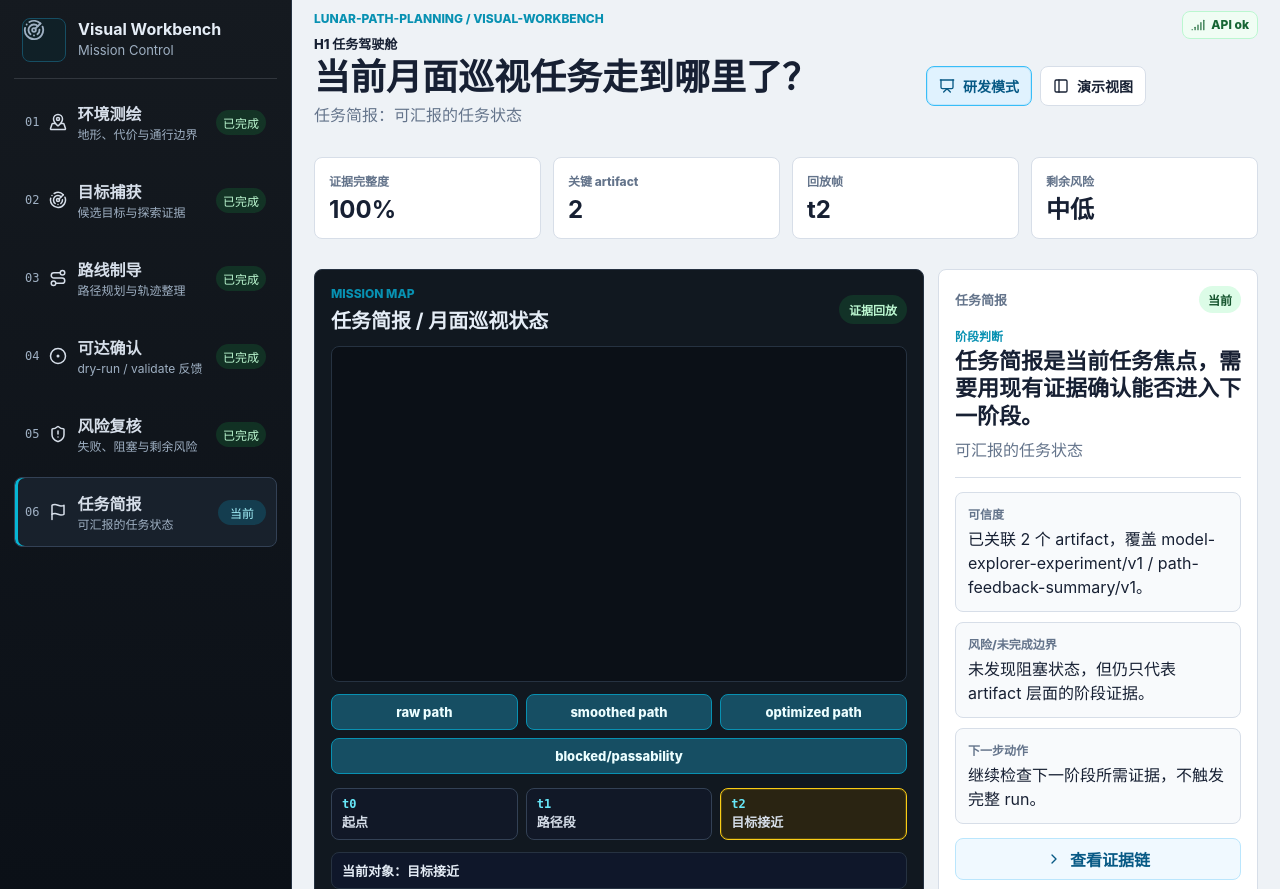
Test: App › presentation mode hides evidence chain drawer schema and path details
The width and height of the screenshot is (1280, 889).
Click the button with aria-label "切换到演示模式": point(1093, 86) [1040, 66, 1146, 106]
(page scrolled)
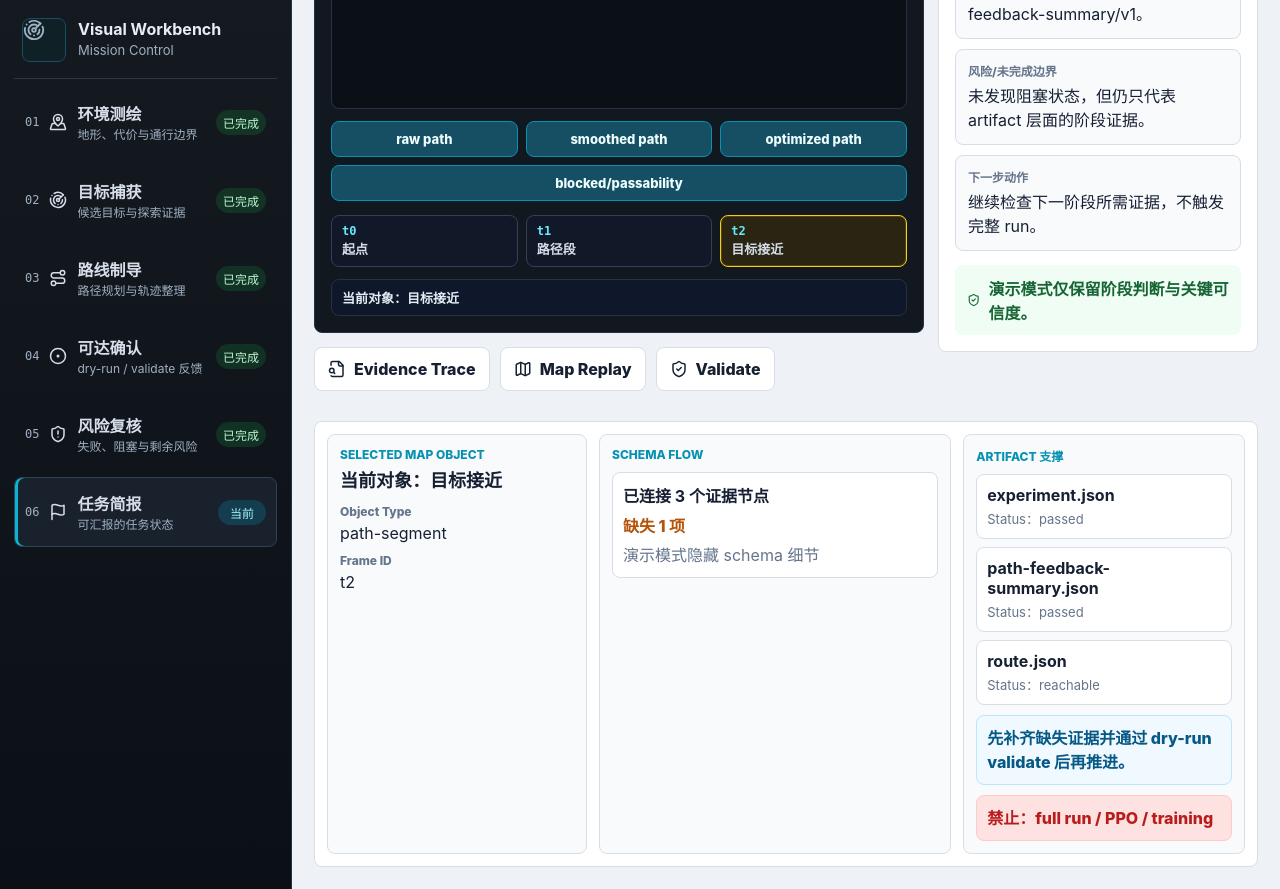
Expected: the text "禁止：full run / PPO / training" is shown, [976, 795, 1232, 841]
Now the text "演示模式隐藏 schema 细节" is shown, box [623, 545, 819, 565]
